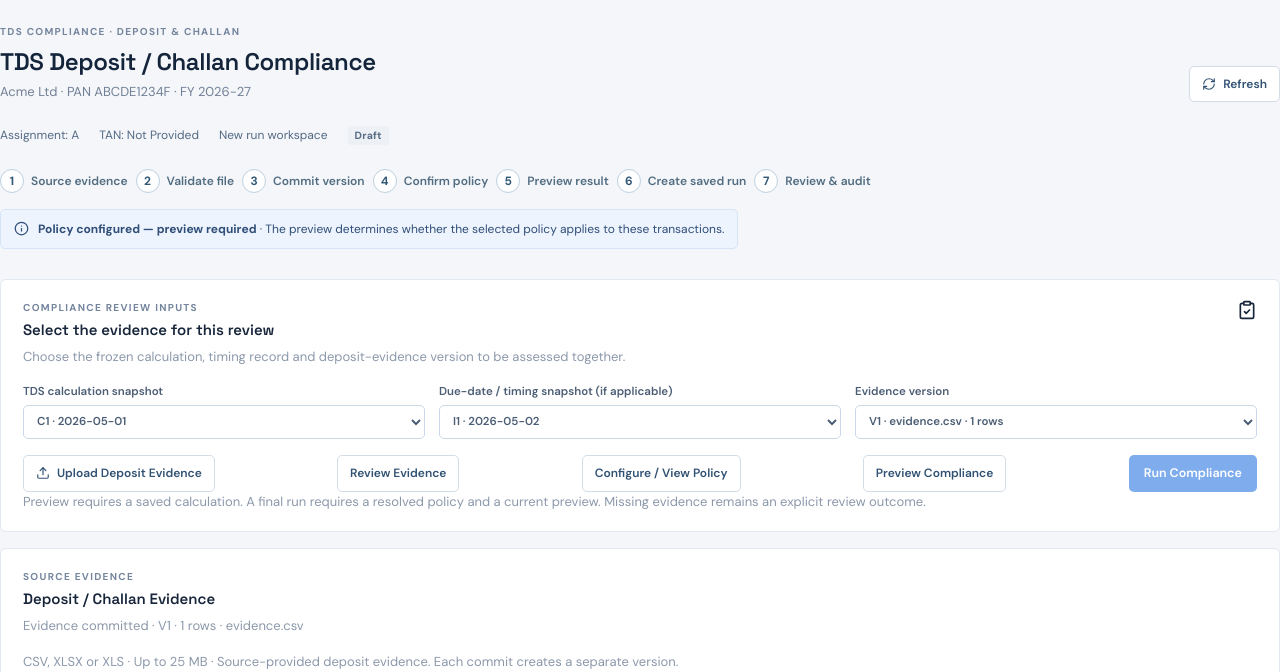
Scenario: run requires confirmation then displays new run with persisted summary
What coordinates should you click on to do the following:
click the button "Preview Compliance"
I would click on:
 (935, 473)
Its box is [863, 455, 1006, 492].
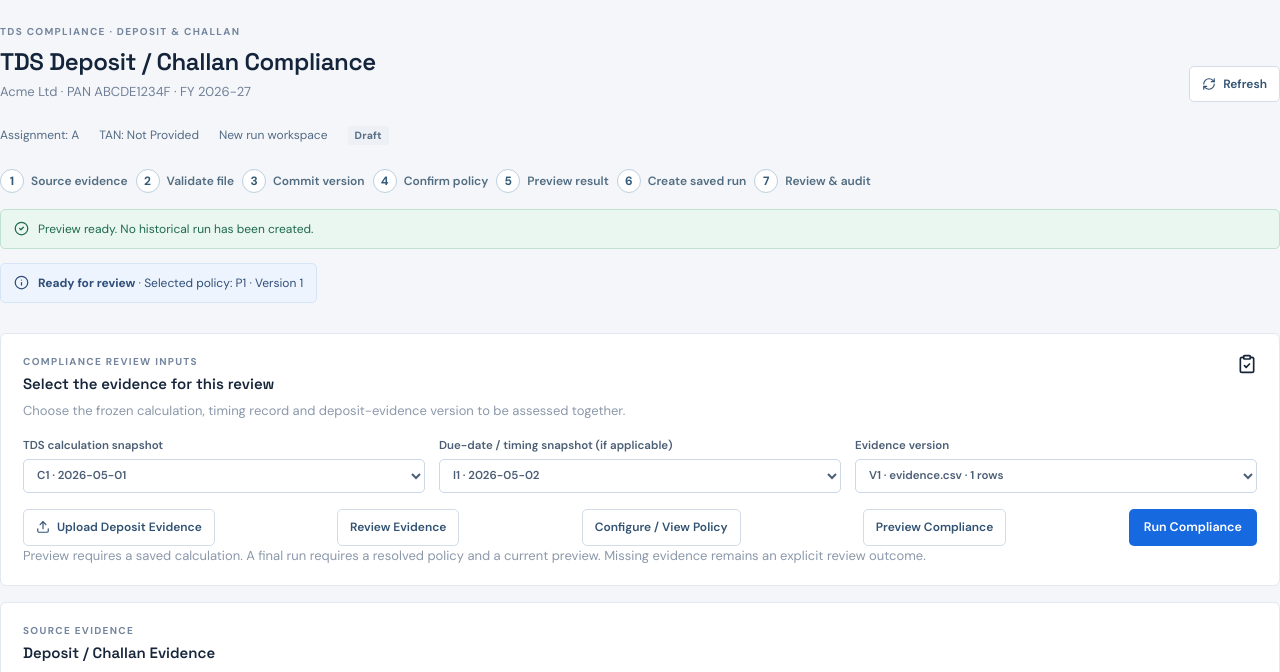
What coordinates should you click on to do the following:
click the button "Run Compliance"
I would click on:
 (1193, 527)
Its box is [1129, 509, 1257, 546].
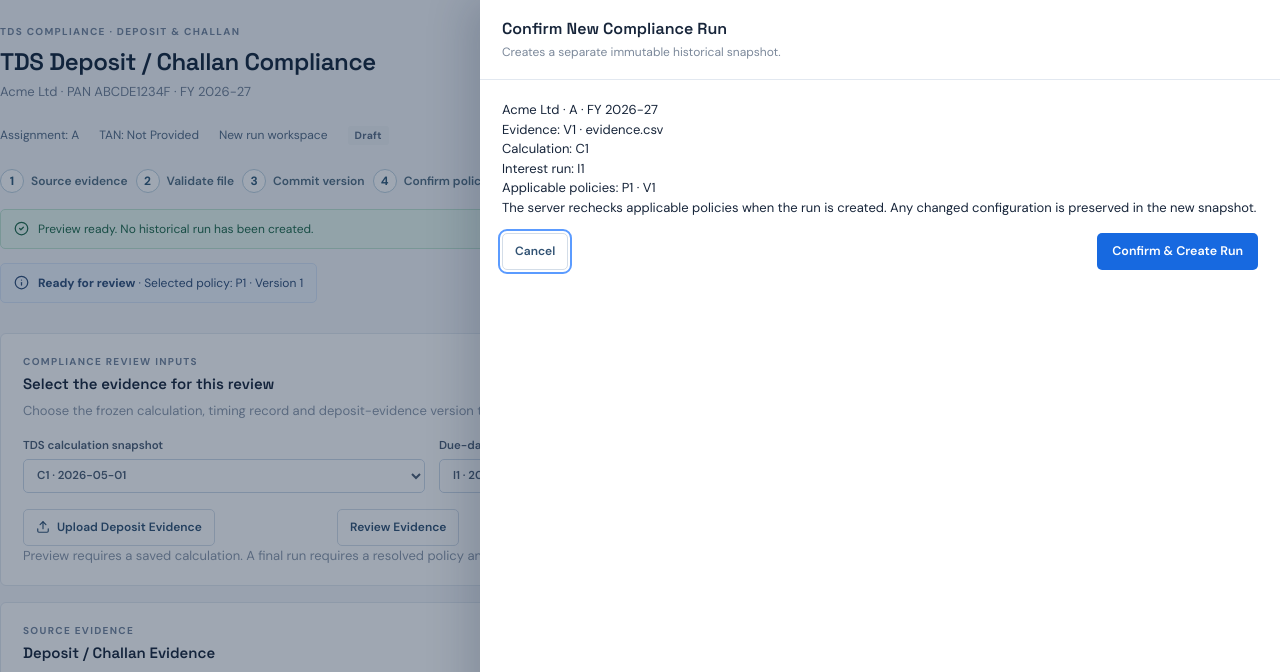
Expected: the text "Confirm New Compliance Run" is shown, [502, 18, 727, 39]
Expected: the button "Confirm & Create Run" is shown
What coordinates should you click on to do the following:
click the button "Confirm & Create Run"
I would click on:
 (1178, 251)
Its box is [1097, 233, 1258, 270].
(page scrolled)
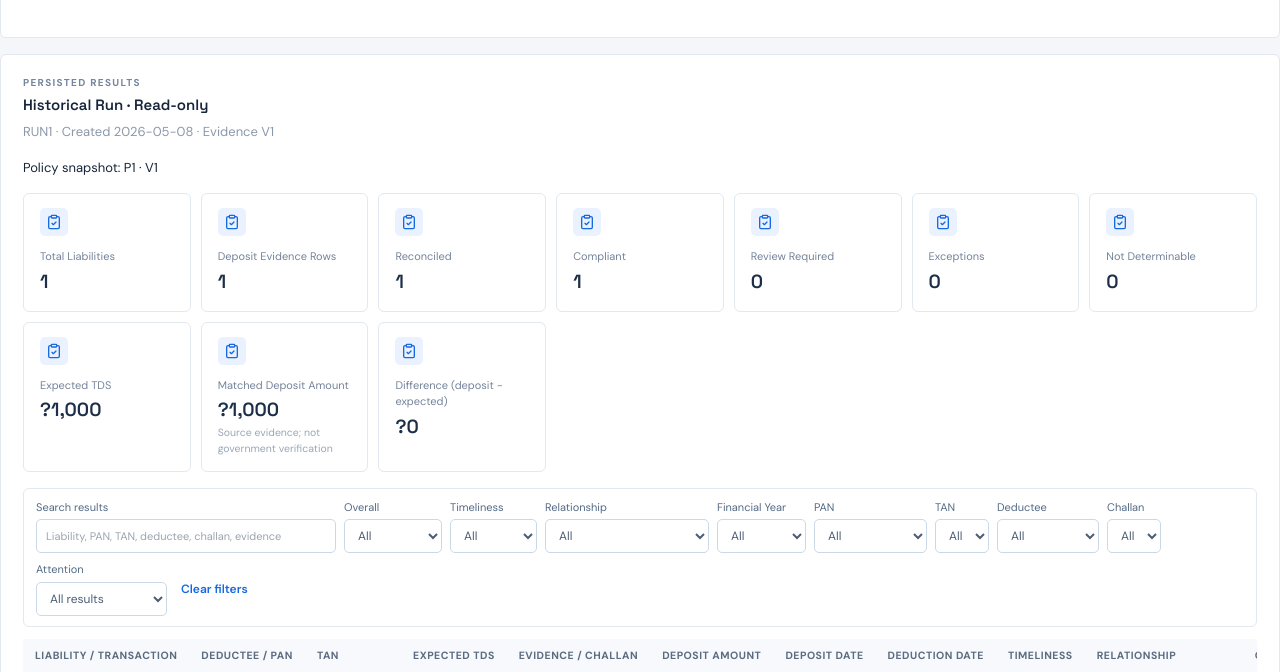
Expected: the text "RUN1" is shown, [23, 123, 274, 140]
Expected: the text "Historical Run · Read-only" is shown, [23, 95, 208, 114]
